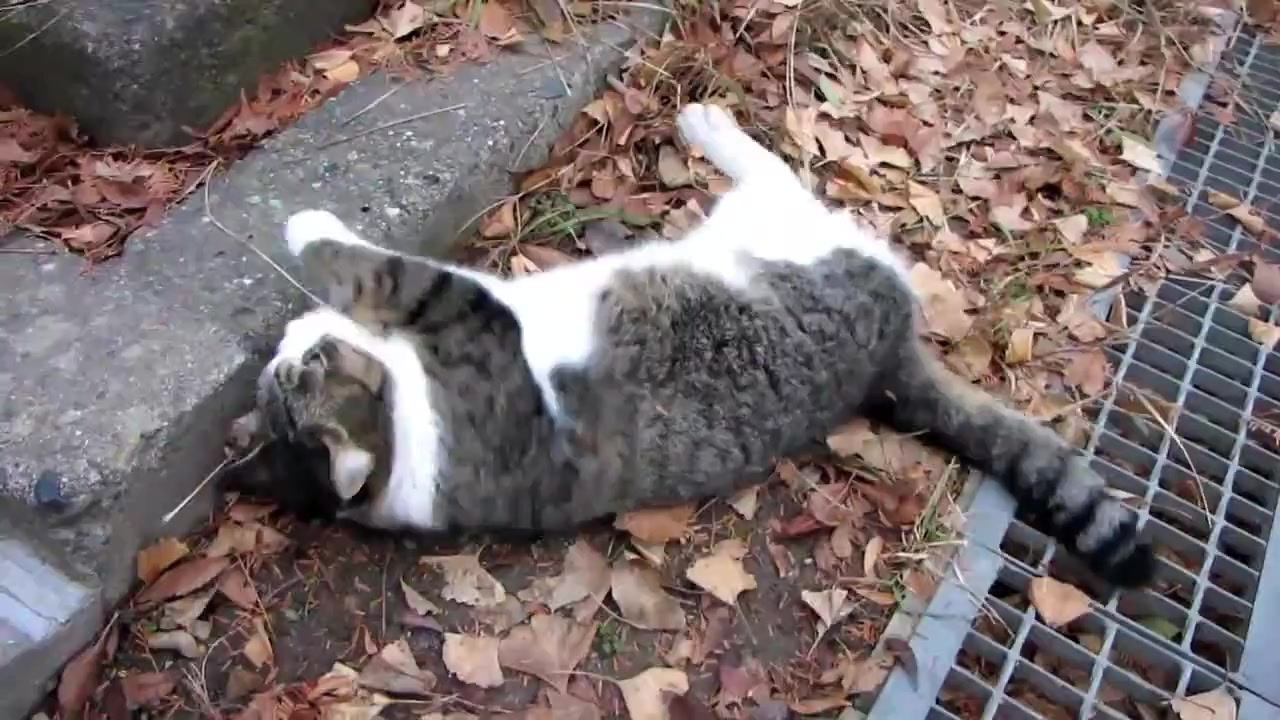cat: (221, 94, 1161, 581)
